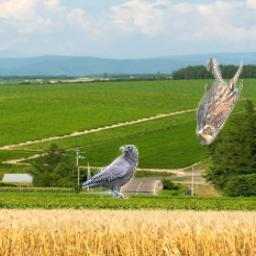Crow: (84, 145, 140, 199)
Sparrow: (197, 59, 244, 146)
